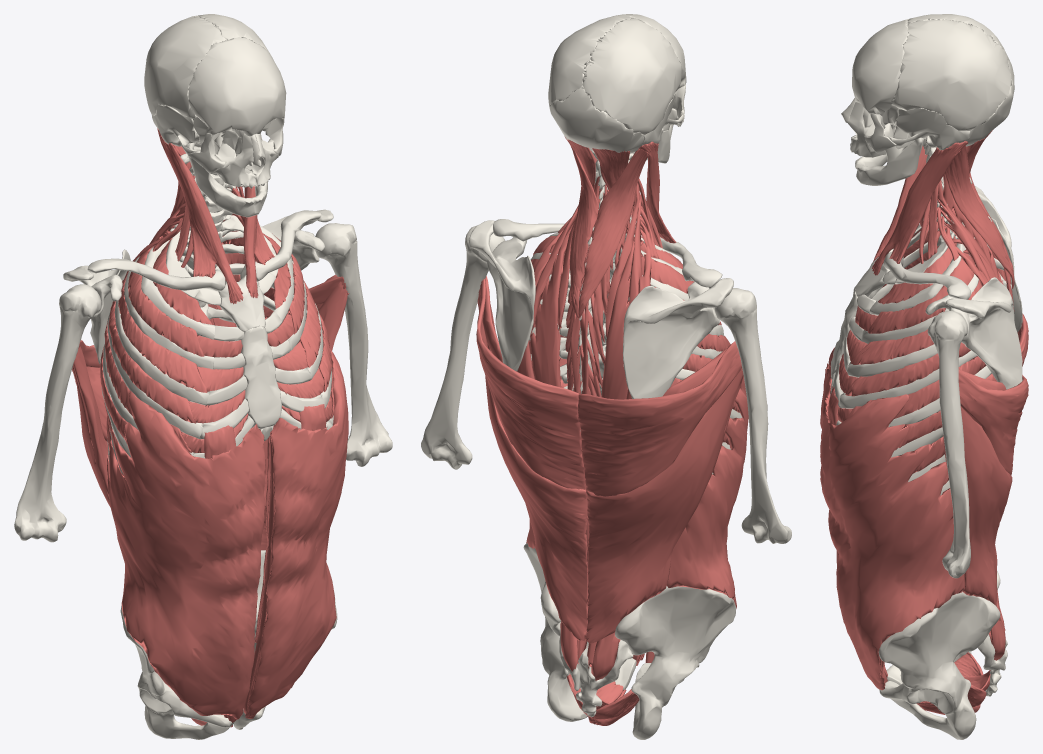
Rendered from muscle_trunk.glb.
3 views of the same model, side by side, from view 1: azimuth 30°, elevation 25°; view 2: azimuth 150°, elevation 25°; view 3: azimuth 270°, elevation 25° (orthographic). The views are drawn at different scales.
Parts seen in each view (by area): view 1: external_oblique, b_thorax, b_skull, b_arms, external_intercostal, internal_intercostal, sternocleidomastoid, latissimus_dorsi, b_pelvis, rectus_abdominis, scalenes, transversus_abdominis (+3 smaller); view 2: latissimus_dorsi, b_arms, b_skull, b_pelvis, erector_spinae, external_oblique, splenius_capitis, b_thorax, multifidus, external_intercostal, levator_ani, semispinalis_capitis (+3 smaller); view 3: external_oblique, b_skull, b_arms, b_pelvis, b_thorax, latissimus_dorsi, external_intercostal, sternocleidomastoid, erector_spinae, splenius_capitis, internal_intercostal, scalenes (+2 smaller).
Part boxes in pixels (left/top/right/bottom): external_oblique: left=107, top=349, right=348, bottom=719; b_thorax: left=87, top=210, right=333, bottom=474; b_skull: left=144, top=14, right=286, bottom=217; b_arms: left=14, top=209, right=392, bottom=542; external_intercostal: left=100, top=230, right=334, bottom=452; internal_intercostal: left=105, top=251, right=332, bottom=452; sternocleidomastoid: left=157, top=128, right=274, bottom=304; latissimus_dorsi: left=72, top=274, right=348, bottom=507; b_pelvis: left=120, top=550, right=337, bottom=739; rectus_abdominis: left=204, top=404, right=326, bottom=717; scalenes: left=152, top=175, right=244, bottom=267; transversus_abdominis: left=227, top=380, right=309, bottom=722; latissimus_dorsi: left=476, top=276, right=743, bottom=643; b_arms: left=421, top=220, right=791, bottom=543; b_skull: left=548, top=14, right=686, bottom=163; b_pelvis: left=523, top=543, right=735, bottom=739; erector_spinae: left=517, top=183, right=651, bottom=680; external_oblique: left=526, top=376, right=748, bottom=658; splenius_capitis: left=569, top=145, right=647, bottom=318; b_thorax: left=493, top=219, right=742, bottom=474; multifidus: left=565, top=176, right=620, bottom=642; external_intercostal: left=529, top=236, right=739, bottom=444; levator_ani: left=567, top=673, right=639, bottom=725; semispinalis_capitis: left=564, top=136, right=630, bottom=233; external_oblique: left=820, top=363, right=964, bottom=690; b_skull: left=841, top=14, right=1014, bottom=185; b_arms: left=925, top=186, right=1022, bottom=578; b_pelvis: left=878, top=571, right=1007, bottom=739; b_thorax: left=830, top=218, right=991, bottom=495; latissimus_dorsi: left=943, top=313, right=1028, bottom=620; external_intercostal: left=845, top=224, right=997, bottom=485; sternocleidomastoid: left=871, top=141, right=968, bottom=275; erector_spinae: left=937, top=173, right=1014, bottom=660; splenius_capitis: left=945, top=143, right=1014, bottom=288; internal_intercostal: left=832, top=232, right=939, bottom=443; scalenes: left=919, top=183, right=959, bottom=263.
Bounding box in the file's own units: 0.4816 × 0.8793 × 0.2368.
